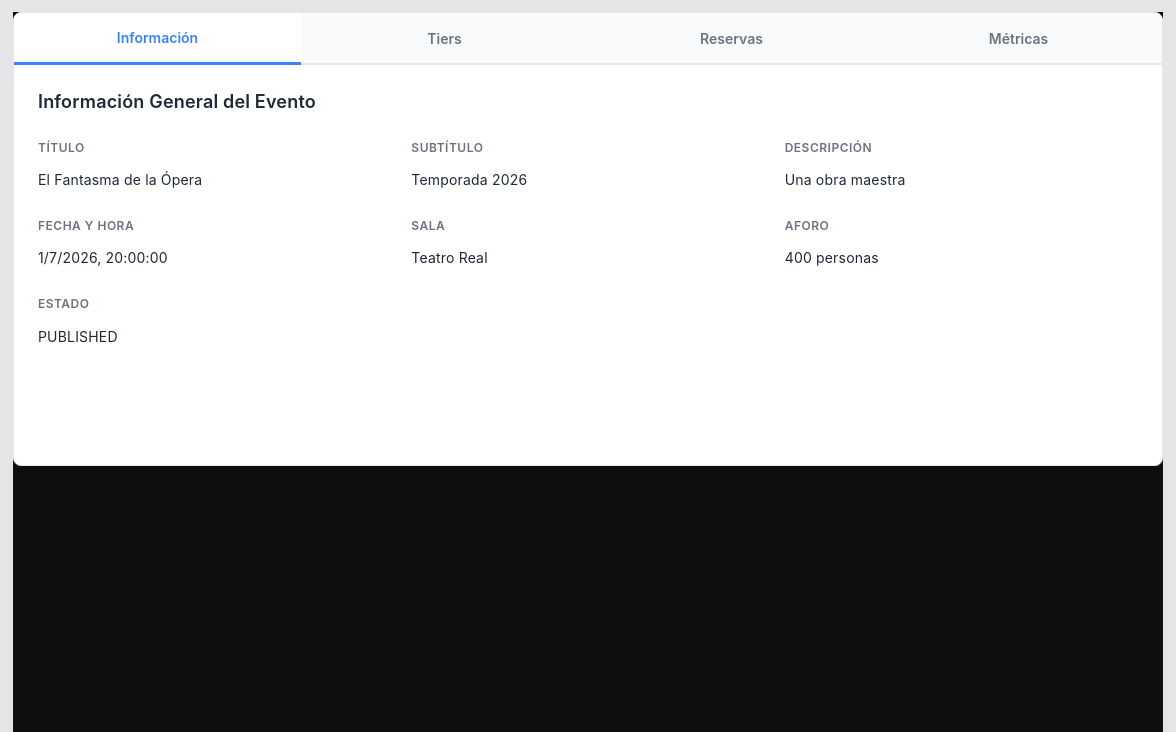
Test: EventDetailTabs › shows empty tiers message when no tiers configured
What coordinates should you click on to do the following:
click the button "Tiers"
I would click on:
 (444, 38)
Its box is left=301, top=13, right=588, bottom=63.
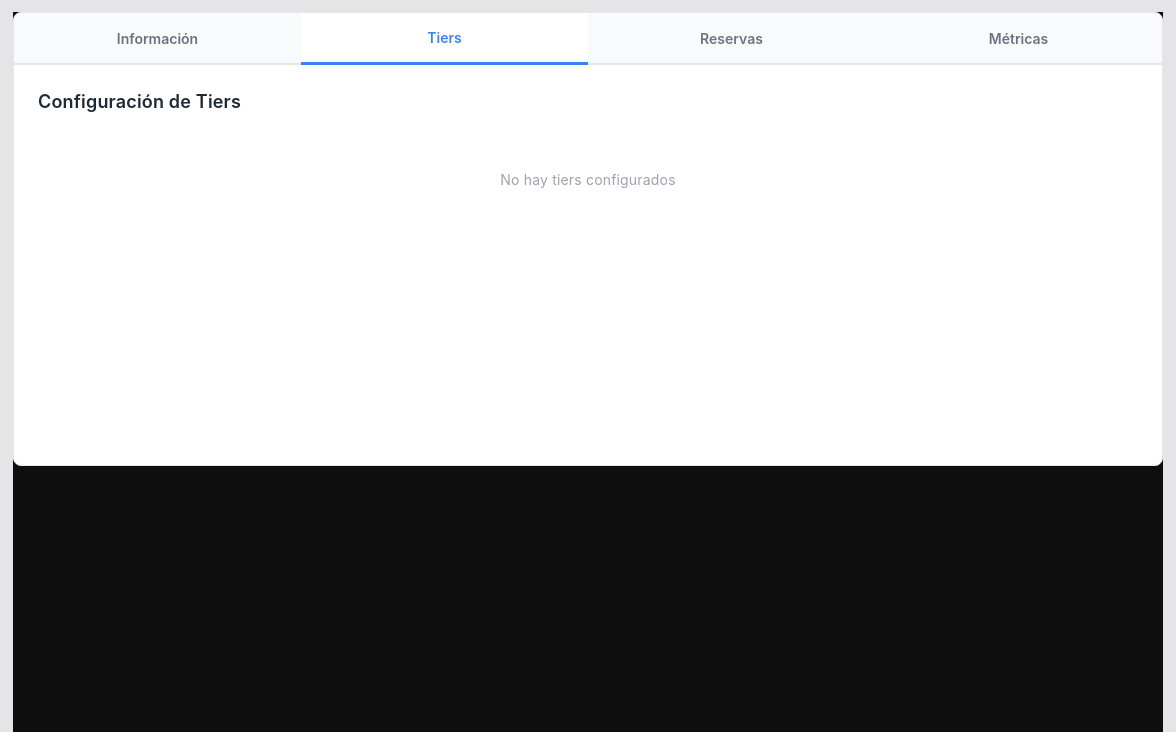
Expected: the text "No hay tiers configurados" is shown, left=500, top=171, right=676, bottom=188
